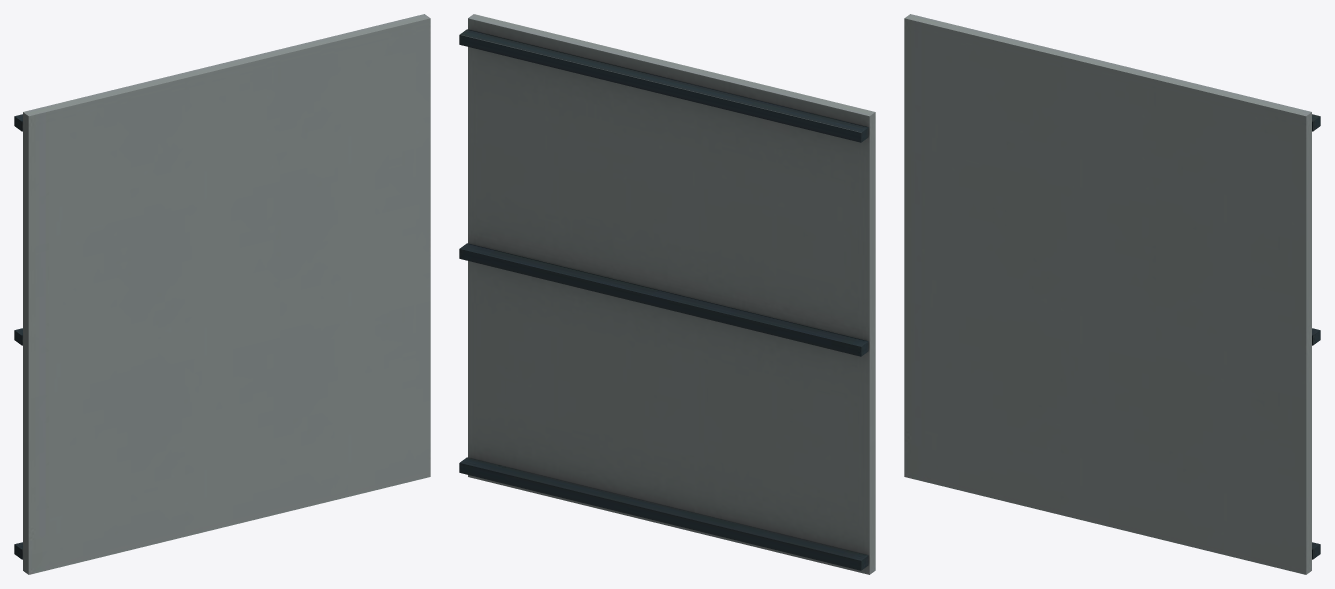
Rendered from wall_bay_lod.glb.
3 renders of one model, left to right at view 1: azimuth 30°, elevation 25°; view 2: azimuth 150°, elevation 25°; view 3: azimuth 330°, elevation 25°, orthographic.
Parts seen in each view (by area): view 1: body; view 2: body; view 3: body.
Boxes of the visible parts, bbox=[...] form: body: bbox=[14, 14, 430, 574]; body: bbox=[459, 14, 875, 574]; body: bbox=[904, 14, 1320, 574].
Size of the model in its own units: 5.5 by 6 by 0.3399.
Materials: 1 (1 with a texture image).
